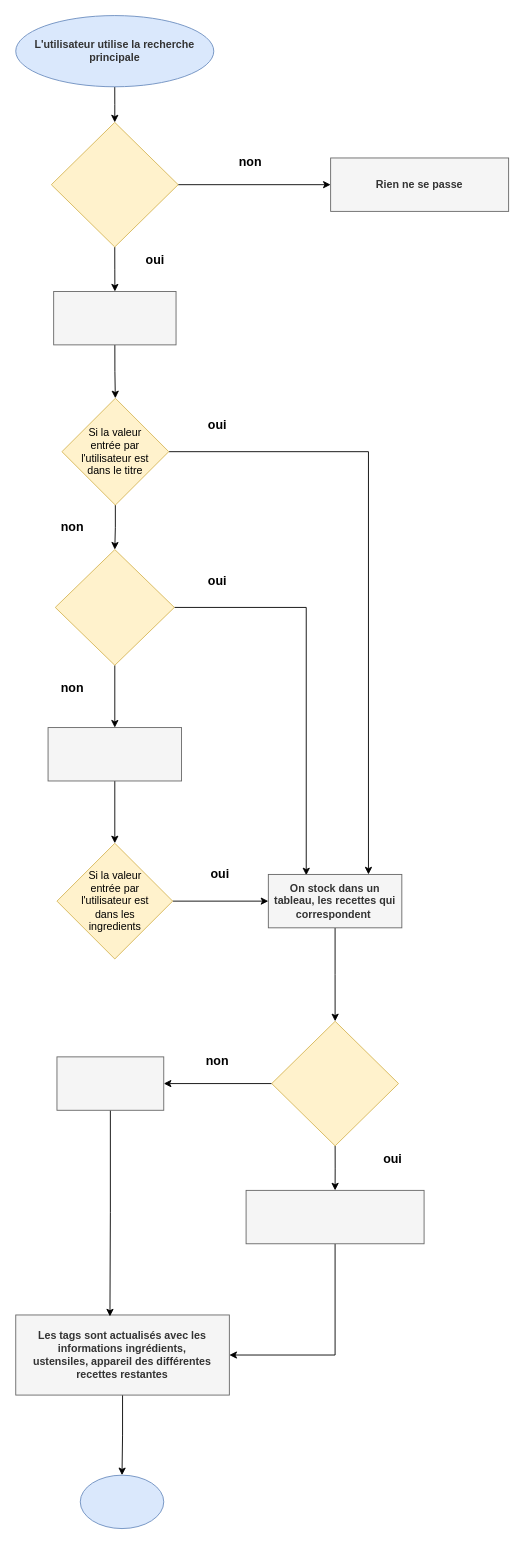
This 524x1544 diagram has some shape labels left out. Here are the shapes that lost their labels. From the top down, the centre of each, then its label:
(114,184): Si le nombre de caractères est supérieur ou égale à 3
(114,318): Parcours les recettes du tableau
(114,607): Si la valeur entrée par l'utilisateur est dans la description
(114,754): On boucle sur les ingredients de la recette
(110,1083): affiche les recettes filtrées
(335,1083): Si la longueur du tableau des recettes est de 0
(334,1216): Affiche " Aucune recette ne correspond à votre critère"
(121,1501): fin
